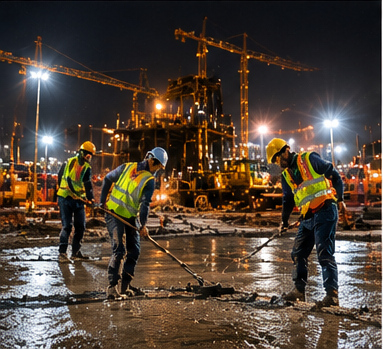crane: (163, 16, 290, 197), (3, 24, 61, 181)
hardhat: (260, 136, 290, 171), (147, 147, 173, 169), (79, 143, 94, 155)
person: (254, 130, 362, 314), (101, 140, 180, 302), (60, 140, 94, 264)
